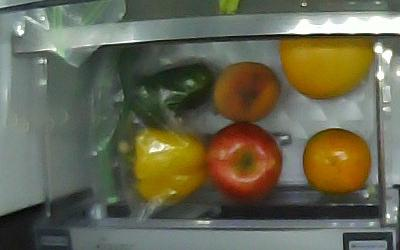apple: (206, 122, 283, 204)
grapefruit: (280, 36, 376, 99)
paprika_vinyl: (125, 62, 215, 130), (128, 129, 206, 207)
peach: (212, 62, 280, 122)
persimmon: (302, 128, 370, 192)
